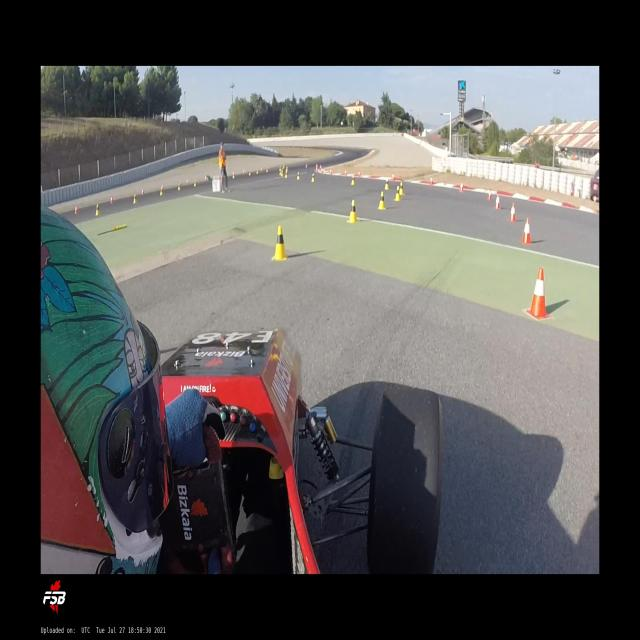orange_cone: (526, 268, 550, 318), (522, 217, 532, 244), (507, 202, 516, 222), (493, 193, 501, 210), (487, 188, 492, 201), (74, 203, 79, 215), (429, 175, 434, 186), (459, 180, 463, 193), (391, 172, 395, 182), (110, 195, 113, 204), (141, 188, 144, 196), (358, 169, 360, 178), (344, 168, 346, 177)
yellow_cone: (271, 225, 288, 261), (347, 199, 358, 224), (378, 191, 386, 210), (394, 186, 400, 202), (350, 174, 356, 186), (132, 193, 138, 204), (399, 182, 404, 195), (95, 203, 100, 216), (384, 178, 389, 190), (296, 171, 300, 180), (177, 183, 181, 191), (159, 188, 163, 195), (311, 173, 314, 182), (285, 170, 288, 179), (193, 178, 196, 186), (281, 169, 283, 176)
